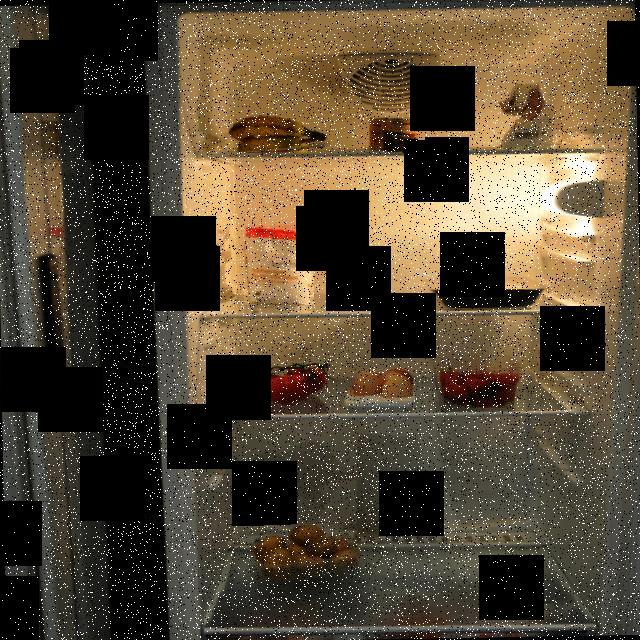banana: (225, 112, 330, 154)
corn: (365, 114, 425, 154)
eggs: (348, 366, 415, 406)
flour: (497, 82, 562, 150)
potato: (250, 524, 358, 578)
strawberries: (438, 362, 524, 408)
sugar: (236, 219, 314, 305)
tomato: (244, 363, 328, 406)
